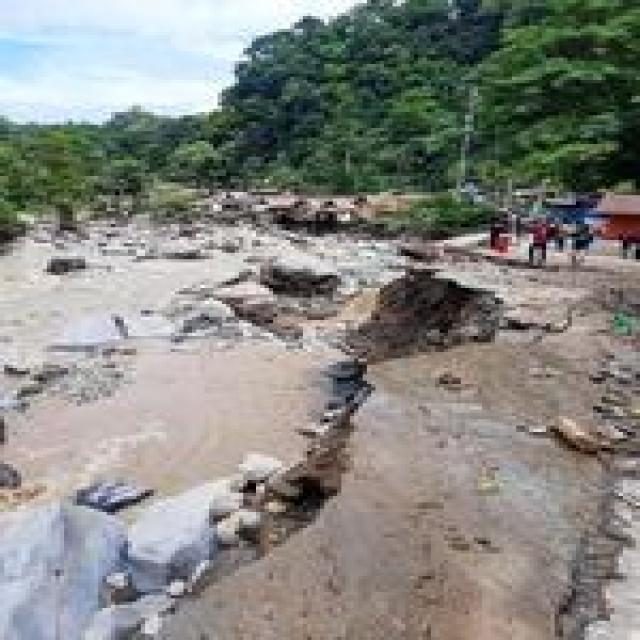road collapse: (11, 94, 640, 619)
